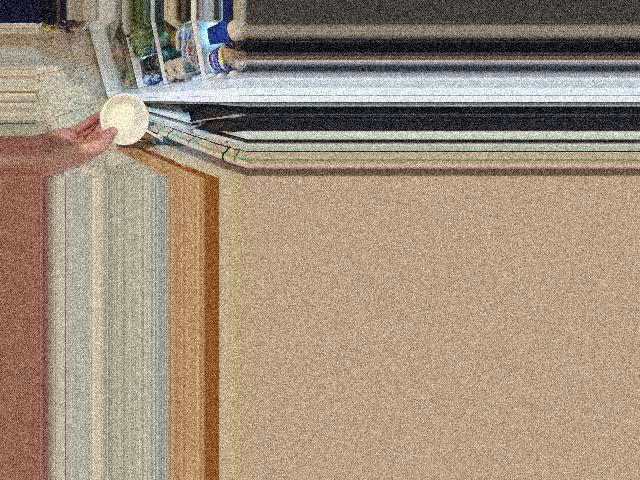cotage: (102, 94, 148, 142)
